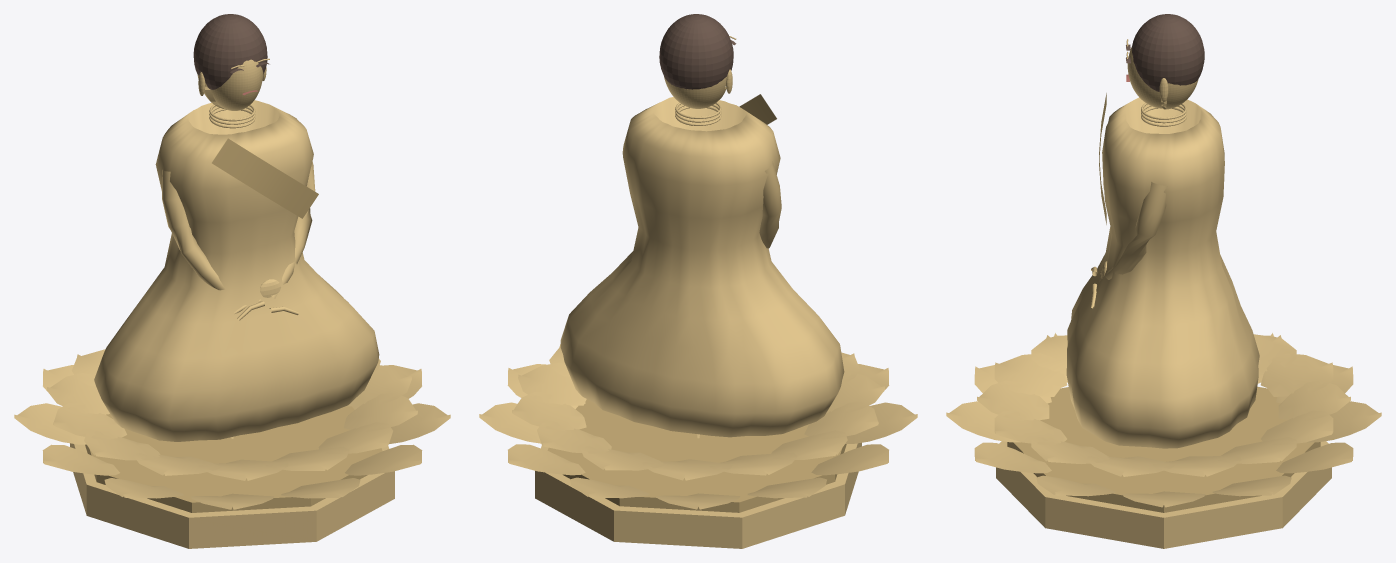
File: shakyamuni.glb
3 views of the same model, side by side, from view 1: azimuth 30°, elevation 25°; view 2: azimuth 150°, elevation 25°; view 3: azimuth 270°, elevation 25° (orthographic).
Visible parts, largest first — view 1: body_goldWood, lotusPedestal_goldWood, decorativeBase_goldWood, decorativeBase_goldWoodDark, head_hair, mainArms_goldWood, body_goldWoodDark, head_goldWood; view 2: body_goldWood, lotusPedestal_goldWood, decorativeBase_goldWoodDark, decorativeBase_goldWood, head_hair, head_goldWood, mainArms_goldWood, body_goldWoodDark; view 3: body_goldWood, lotusPedestal_goldWood, decorativeBase_goldWood, decorativeBase_goldWoodDark, head_hair, mainArms_goldWood, head_goldWood.
Boxes of the visible parts, bbox=[...] form: body_goldWood: bbox=[94, 100, 379, 441]; lotusPedestal_goldWood: bbox=[14, 349, 450, 509]; decorativeBase_goldWood: bbox=[70, 443, 394, 548]; decorativeBase_goldWoodDark: bbox=[85, 406, 382, 512]; head_hair: bbox=[193, 14, 269, 89]; mainArms_goldWood: bbox=[162, 161, 315, 320]; body_goldWoodDark: bbox=[212, 138, 318, 218]; head_goldWood: bbox=[197, 58, 269, 128]; body_goldWood: bbox=[560, 97, 844, 438]; lotusPedestal_goldWood: bbox=[479, 344, 917, 509]; decorativeBase_goldWoodDark: bbox=[547, 399, 846, 512]; decorativeBase_goldWood: bbox=[535, 442, 861, 548]; head_hair: bbox=[659, 14, 736, 89]; head_goldWood: bbox=[664, 36, 736, 125]; mainArms_goldWood: bbox=[759, 161, 781, 248]; body_goldWoodDark: bbox=[739, 94, 776, 124]; body_goldWood: bbox=[1066, 97, 1259, 448]; lotusPedestal_goldWood: bbox=[946, 333, 1381, 507]; decorativeBase_goldWood: bbox=[996, 441, 1331, 548]; decorativeBase_goldWoodDark: bbox=[1007, 386, 1320, 512]; head_hair: bbox=[1126, 14, 1204, 91]; mainArms_goldWood: bbox=[1091, 182, 1167, 308]; head_goldWood: bbox=[1126, 39, 1198, 126].
Bounding box in the file's own units: 2.28 × 2.66 × 2.28.
